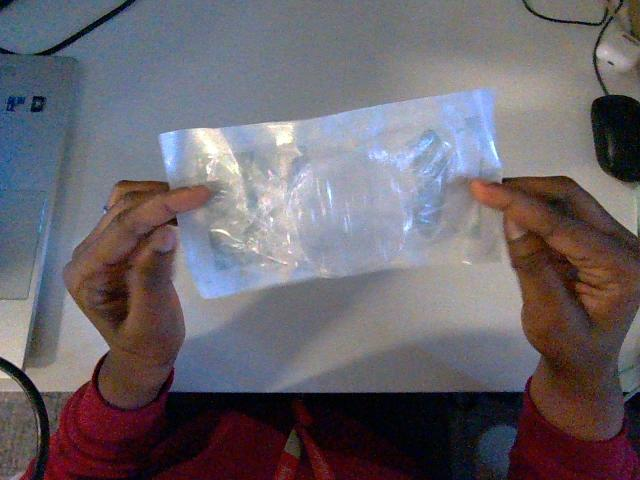gallipot: (160, 90, 500, 297)
